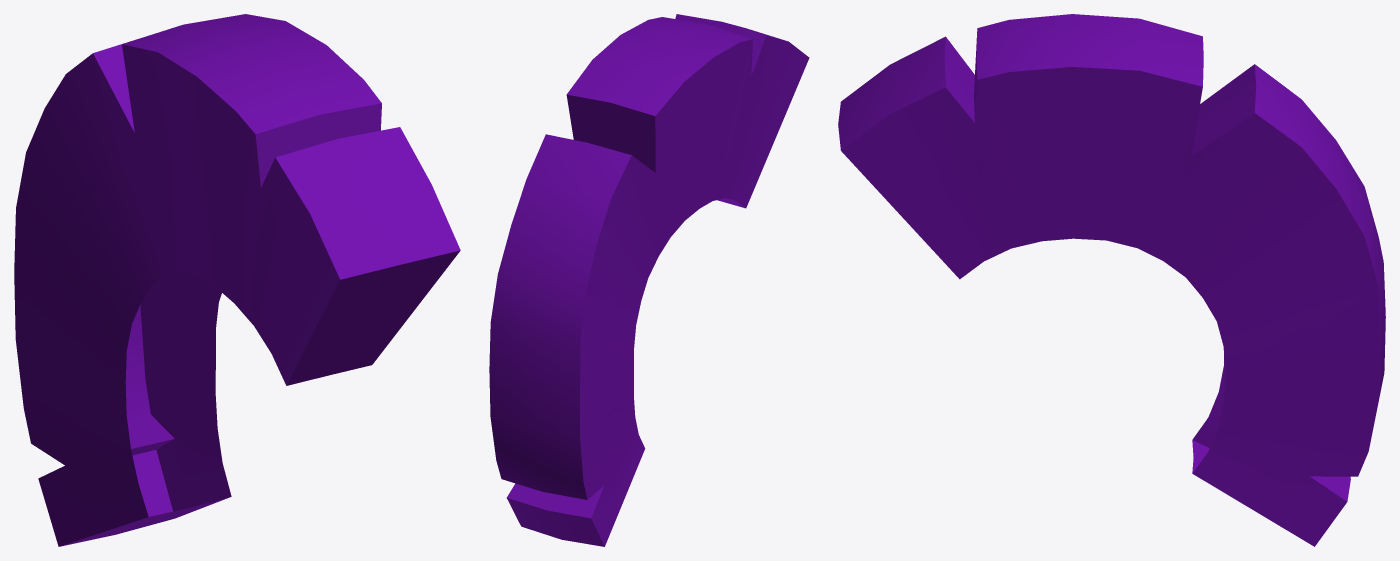
The model's file is Claw_Creator_Character_Punk_Hair.fbx.
3 renders of one model, left to right at view 1: azimuth 30°, elevation 25°; view 2: azimuth 150°, elevation 25°; view 3: azimuth 270°, elevation 25°, orthographic. The views are drawn at different scales.
Parts seen in each view (by area): view 1: SM_Hair_03; view 2: SM_Hair_03; view 3: SM_Hair_03.
Part boxes in pixels (x1,y1,x2,y2): SM_Hair_03: [14, 14, 460, 546]; SM_Hair_03: [489, 14, 809, 546]; SM_Hair_03: [838, 14, 1385, 546].
Bounding box in the file's own units: 12.55 × 54.19 × 54.94.
